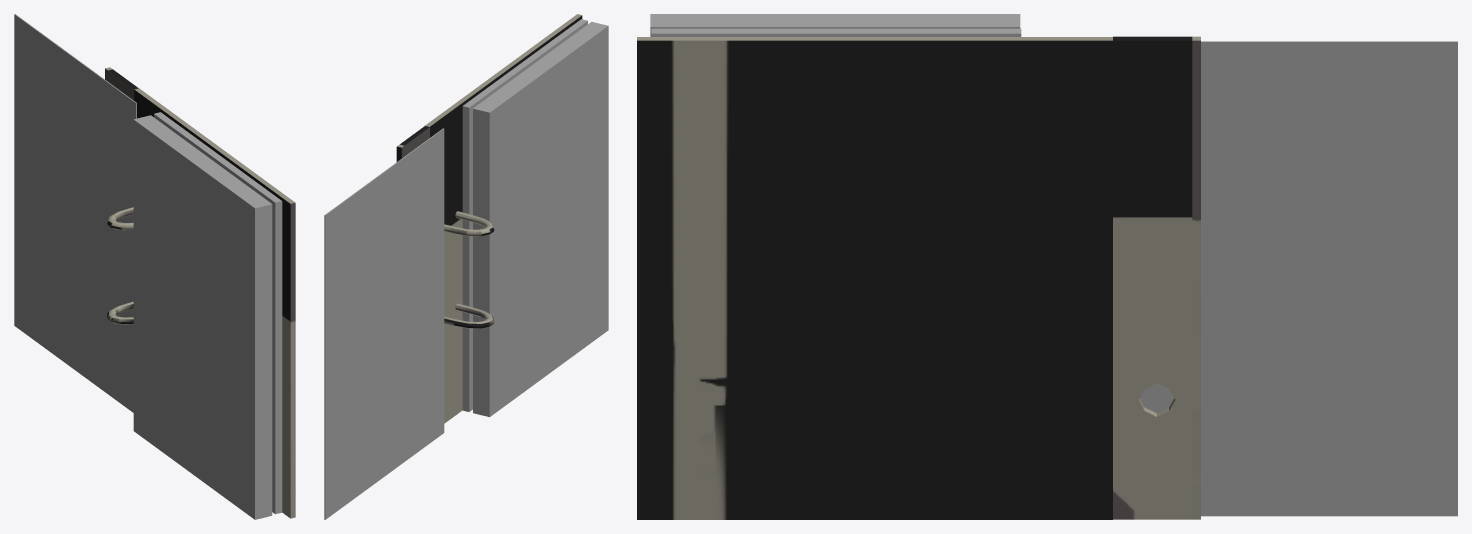
Rendered from AktenordnerPart3.fbx.
3 views of the same model, side by side, from view 1: azimuth 30°, elevation 25°; view 2: azimuth 150°, elevation 25°; view 3: azimuth 270°, elevation 25° (orthographic). The views are drawn at different scales.
Parts seen in each view (by area): view 1: paper o2, paper 1, base, paper 03, back; view 2: paper o2, paper 1, base, paper 03, back; view 3: base, paper 1, back, paper o2, paper 03.
Boxes of the visible parts, x1,y1,x2,y2 form: paper o2: (133,115,272,519); paper 1: (14,14,136,412); base: (107,88,295,518); paper 03: (154,112,282,514); back: (105,67,138,100); paper o2: (473,21,608,417); paper 1: (324,128,444,519); base: (425,14,582,423); paper 03: (462,19,587,411); back: (396,126,429,161); base: (637,37,1112,519); paper 1: (1140,41,1457,516); back: (1113,36,1200,519); paper o2: (650,14,1020,36); paper 03: (651,28,1021,36).
Bounding box in the file's own units: 4.96 × 30.3 × 46.57.
